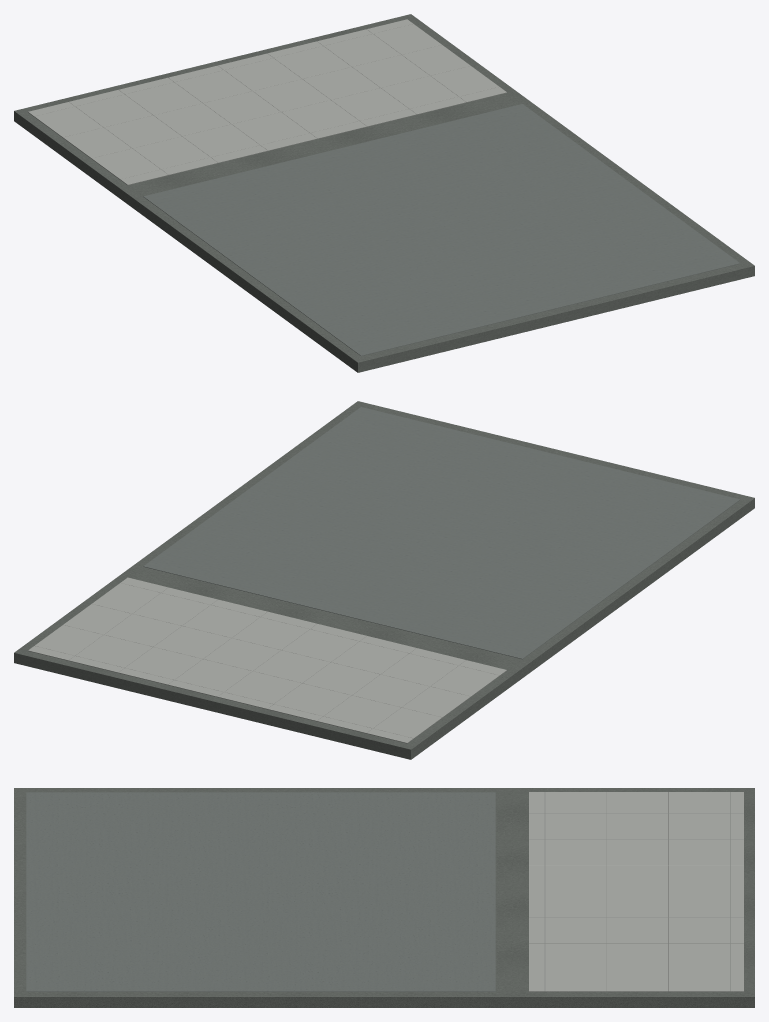
The model's file is room_floor_4x6m_008_v4.glb.
The picture shows the model from 3 angles, top to bottom: view 1: azimuth 30°, elevation 25°; view 2: azimuth 150°, elevation 25°; view 3: azimuth 270°, elevation 25°; orthographic projection. The views are drawn at different scales.
Visible parts, largest first — view 1: INSTANCE__room_floor_4x6m__008; view 2: INSTANCE__room_floor_4x6m__008; view 3: INSTANCE__room_floor_4x6m__008.
Boxes of the visible parts, x1,y1,x2,y2 form: INSTANCE__room_floor_4x6m__008: (14, 14, 754, 372); INSTANCE__room_floor_4x6m__008: (14, 401, 754, 759); INSTANCE__room_floor_4x6m__008: (14, 788, 754, 1007).
Bounding box in the file's own units: 4 × 0.1065 × 6.
4 materials, 2 textured.
